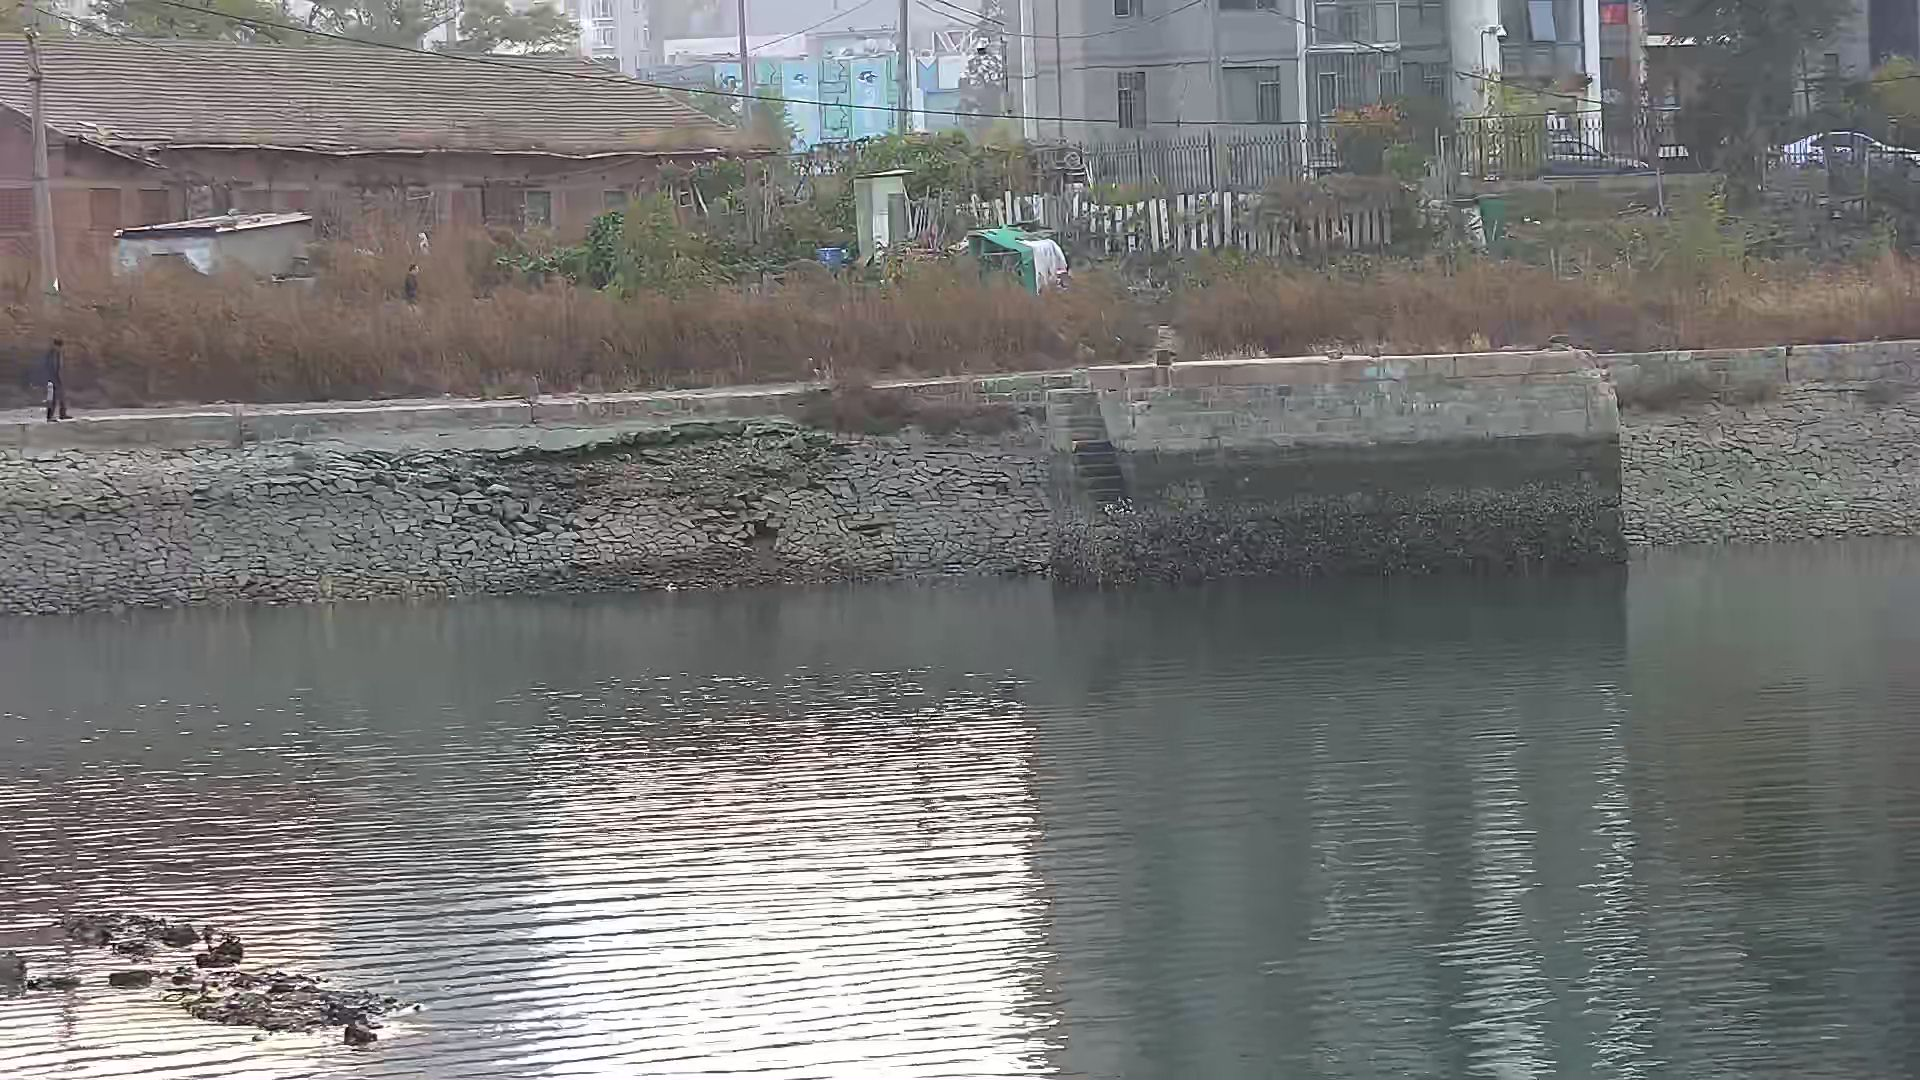rubbish: (42, 894, 411, 1050)
